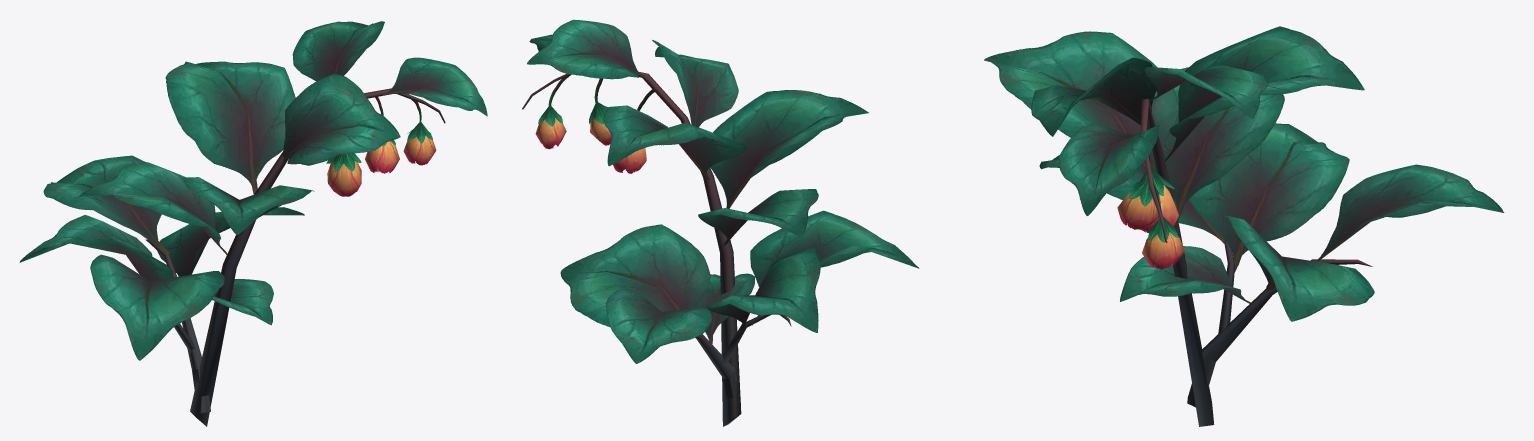
3 views of the same model, side by side, from view 1: azimuth 30°, elevation 25°; view 2: azimuth 150°, elevation 25°; view 3: azimuth 270°, elevation 25° (orthographic). The views are drawn at different scales.
Bounding box in the file's own units: 5.29 × 4.62 × 5.12.
1 material, 1 textured.
